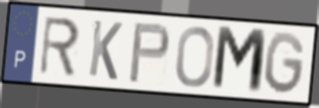G: (263, 30, 307, 97)
K: (86, 17, 125, 83)
M: (209, 23, 269, 97)
O: (174, 24, 216, 90)
P: (126, 22, 172, 85)
R: (37, 15, 82, 79)
